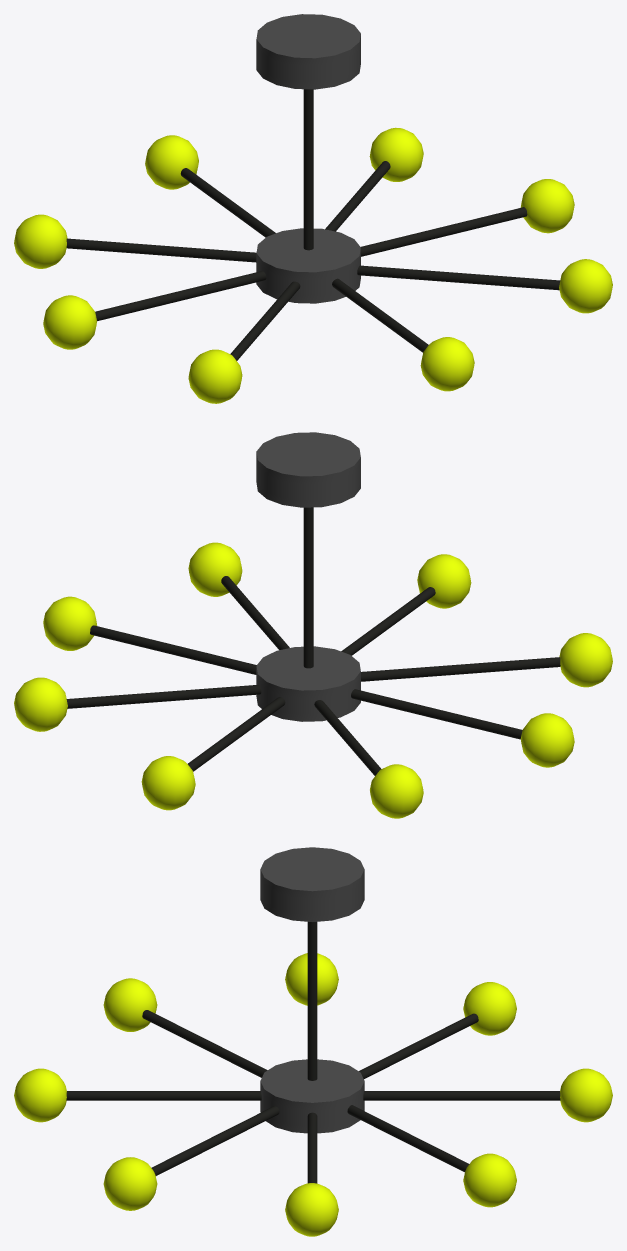
Rendered from chandelier.fbx.
3 renders of one model, top to bottom at view 1: azimuth 30°, elevation 25°; view 2: azimuth 150°, elevation 25°; view 3: azimuth 270°, elevation 25°, orthographic.
Visible parts, largest first — view 1: Cylinder, Cylinder_2, Sphere_3, Sphere_4, Sphere_2, Cylinder_3_3, Cylinder_3_4, Cylinder_3_2, Sphere, Sphere_1, Cylinder_1, Cylinder_4 (+1 smaller); view 2: Cylinder, Cylinder_2, Sphere_2, Sphere_4, Sphere_3, Cylinder_3_3, Cylinder_3_4, Cylinder_3_2, Sphere_1, Sphere, Cylinder_1, Cylinder_3 (+1 smaller); view 3: Cylinder, Cylinder_2, Sphere_3, Sphere_2, Sphere_4, Cylinder_3_4, Cylinder_3_2, Sphere_1, Sphere, Cylinder_3, Cylinder_4, Cylinder_1 (+1 smaller).
Boxes of the visible parts, <box> form: Cylinder: <box>256,14,360,89</box>; Cylinder_2: <box>256,228,360,303</box>; Sphere_3: <box>188,259,612,403</box>; Sphere_4: <box>43,179,574,349</box>; Sphere_2: <box>14,127,423,268</box>; Cylinder_3_3: <box>95,207,527,320</box>; Cylinder_3_4: <box>230,265,560,360</box>; Cylinder_3_2: <box>66,161,390,262</box>; Sphere: <box>420,337,474,391</box>; Sphere_1: <box>145,135,198,189</box>; Cylinder_1: <box>303,89,313,250</box>; Cylinder_4: <box>332,278,428,352</box>; Cylinder: <box>256,432,360,507</box>; Cylinder_2: <box>256,646,360,721</box>; Sphere_2: <box>14,677,423,818</box>; Sphere_4: <box>43,596,574,767</box>; Sphere_3: <box>188,542,612,687</box>; Cylinder_3_3: <box>90,625,522,739</box>; Cylinder_3_4: <box>221,576,560,681</box>; Cylinder_3_2: <box>66,685,381,775</box>; Sphere_1: <box>141,756,195,810</box>; Sphere: <box>417,554,471,608</box>; Cylinder_1: <box>303,507,313,668</box>; Cylinder_3: <box>188,697,285,771</box>; Cylinder: <box>260,847,364,921</box>; Cylinder_2: <box>260,1059,364,1133</box>; Sphere_3: <box>103,978,157,1210</box>; Sphere_2: <box>463,982,516,1207</box>; Sphere_4: <box>285,953,338,1236</box>; Cylinder_3_4: <box>142,1010,279,1175</box>; Cylinder_3_2: <box>347,1013,478,1172</box>; Sphere_1: <box>560,1068,612,1122</box>; Sphere: <box>14,1068,66,1122</box>; Cylinder_3: <box>363,1091,560,1100</box>; Cylinder_4: <box>66,1091,261,1100</box>; Cylinder_1: <box>307,922,317,1080</box>.
Size of the model in its own units: 575 by 265 by 575.
